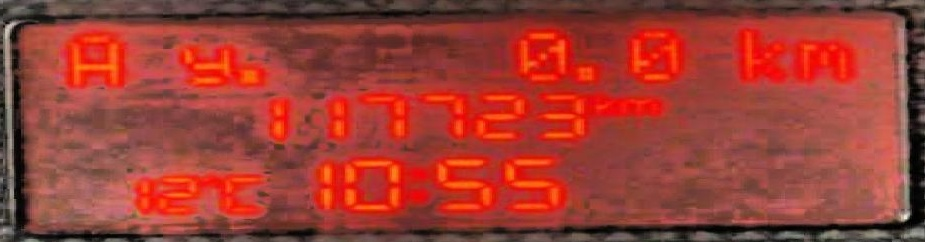-: (232, 62, 270, 87), (572, 60, 601, 82)
0: (618, 24, 687, 85), (338, 154, 403, 214), (510, 24, 572, 81)
1: (265, 91, 298, 142), (320, 94, 349, 141), (312, 159, 334, 216), (129, 172, 149, 217)
2: (469, 89, 527, 143), (154, 173, 198, 216)
3: (532, 89, 583, 143)
5: (500, 150, 567, 215), (432, 151, 492, 214)
7: (354, 89, 407, 140), (416, 87, 467, 140)
X: (63, 30, 125, 89), (734, 25, 787, 84), (792, 35, 854, 82), (174, 43, 232, 89), (216, 174, 267, 215), (618, 93, 663, 119), (407, 162, 427, 211), (587, 88, 618, 119)
